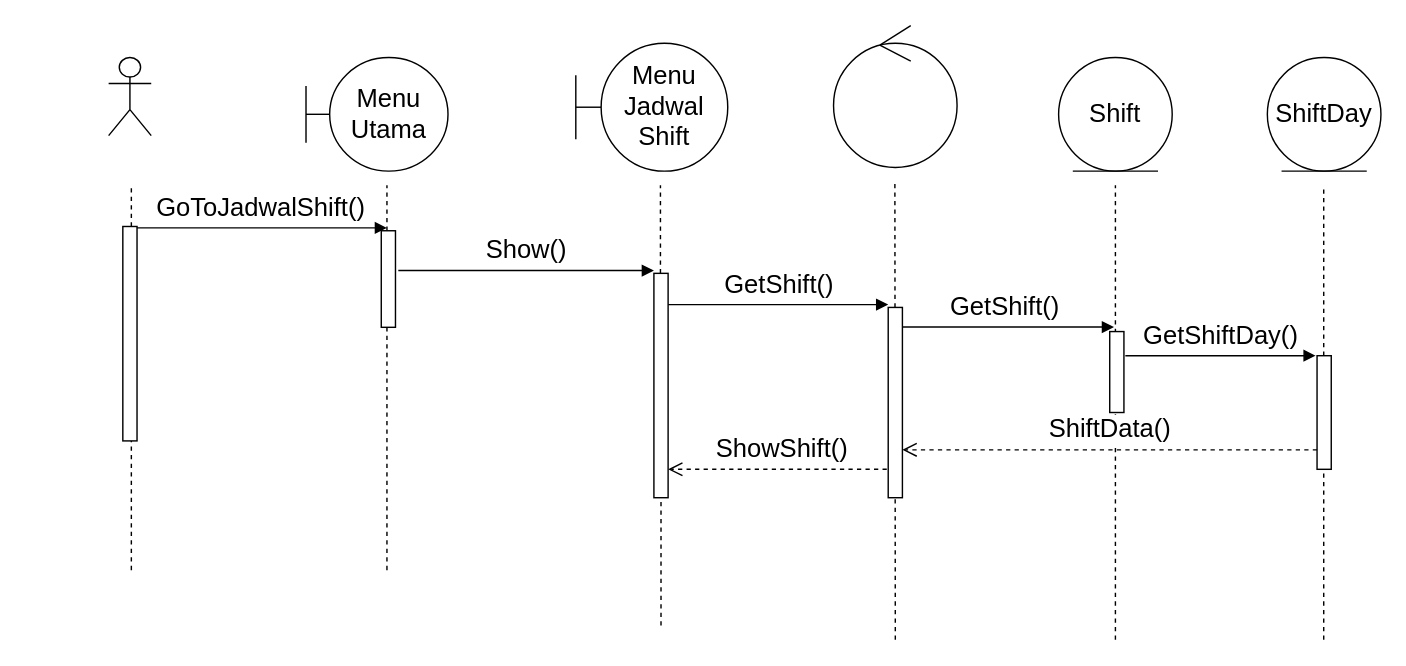
Some shapes in this 1406 by 666 pixel diagram are drawn without their labels. The box of each missing label's shape, as (x1, y1, x2, y2) in pixels:
Manajer Shift: (832, 24, 957, 168)
Staff Infrastructure: (107, 56, 151, 136)
